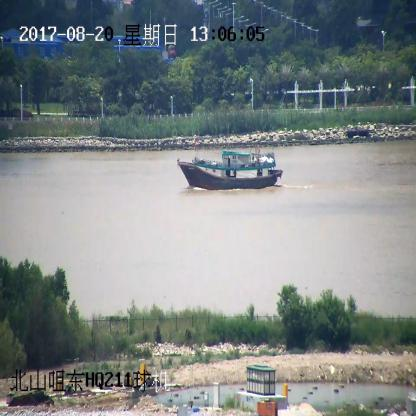Fishing Boat: (178, 138, 282, 192)
